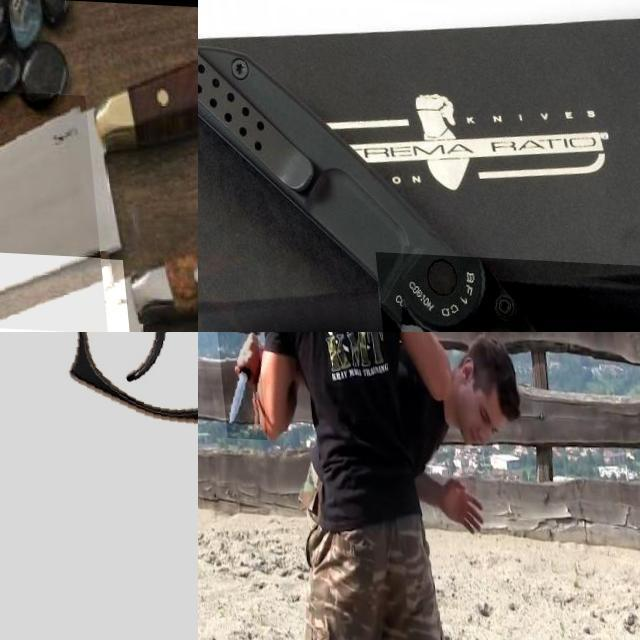-: (0, 79, 166, 330), (370, 249, 640, 332), (0, 240, 198, 332), (211, 332, 260, 438)
gun-knife-thesis - v11 Yolov5 augmented: (0, 332, 198, 640)
